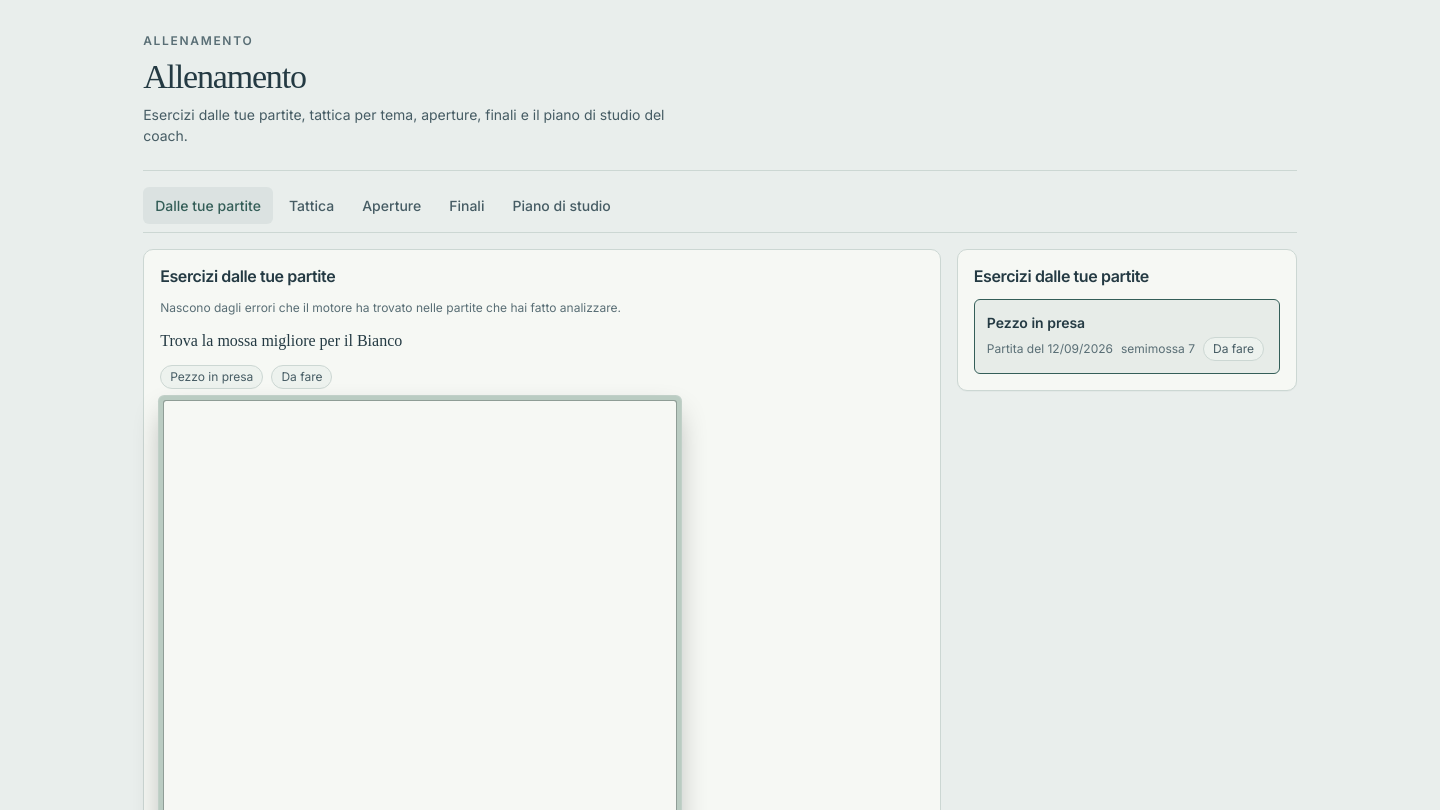
it: TrainingScreen › draws a thematic set and shows its motivation and the first puzzle
This screenshot has width=1440, height=810.
What coordinates should you click on to do the following:
click the tab "Tattica"
I would click on:
 (312, 206)
Its box is [277, 187, 346, 224].
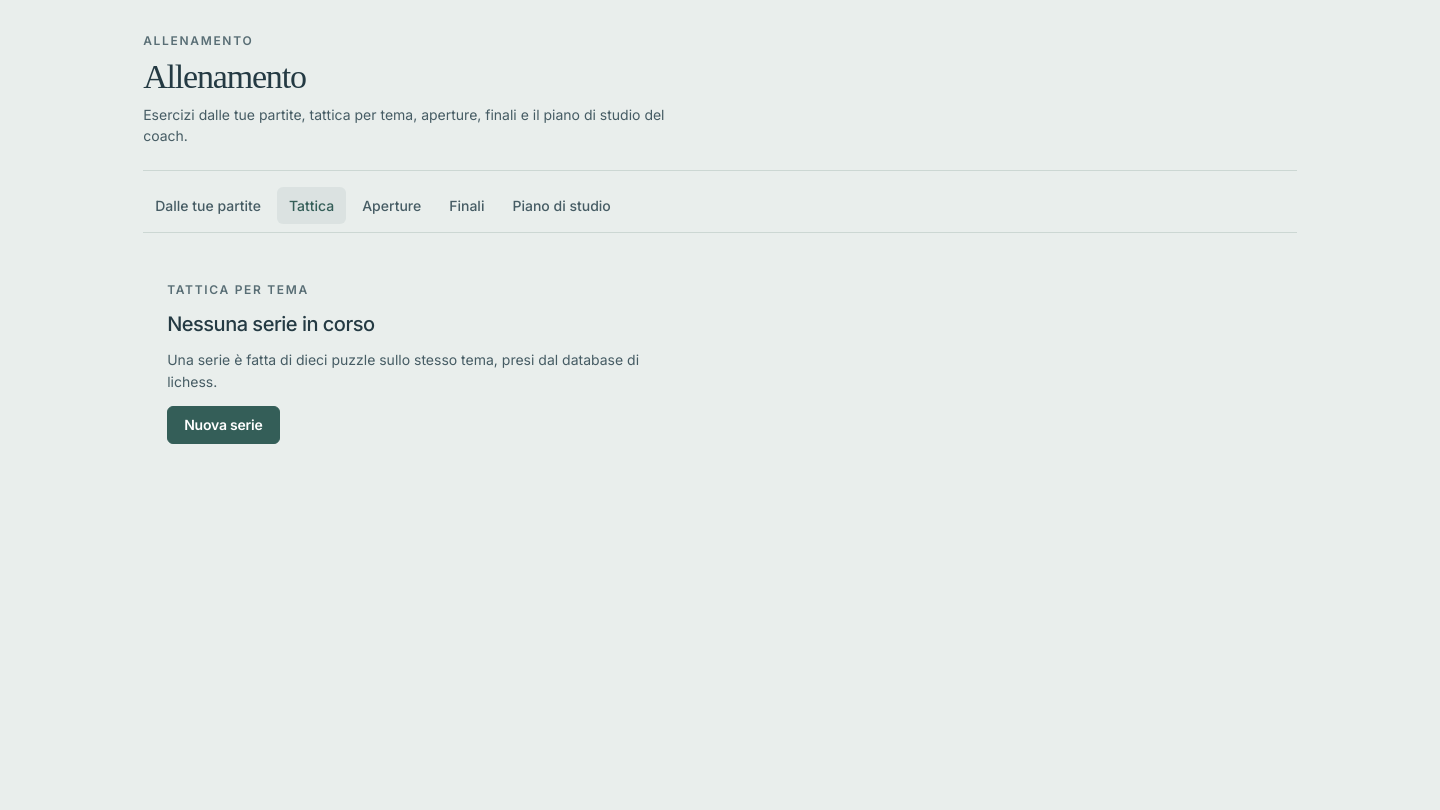
Check: the heading "Nessuna serie in corso" is shown, box [167, 311, 374, 337]
What coordinates should you click on to do the following:
click the button "Nuova serie"
I would click on:
 (223, 425)
Its box is [167, 406, 280, 444].
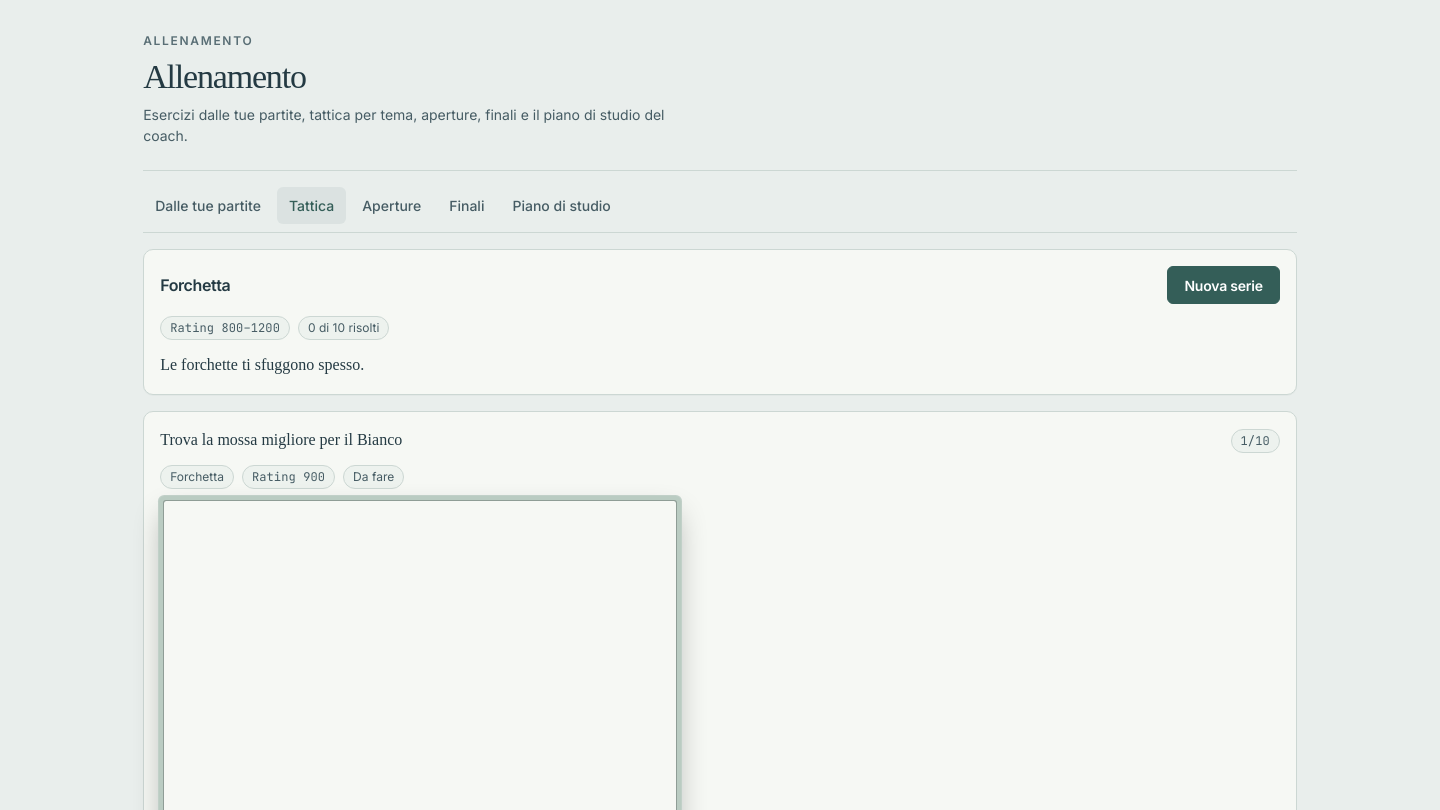
Check: the heading "Forchetta" is shown, box [160, 275, 230, 295]
Check: the text "Le forchette ti sfuggono spesso." is shown, box [160, 356, 364, 373]
Check: the text "Rating 800–1200" is shown, box [160, 316, 290, 340]
